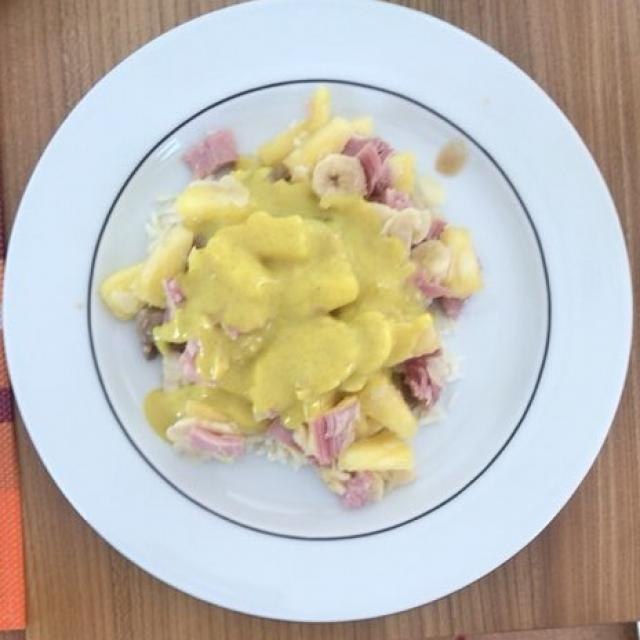ham-cooked: (184, 137, 464, 455)
sauce-curry: (100, 106, 481, 478)
